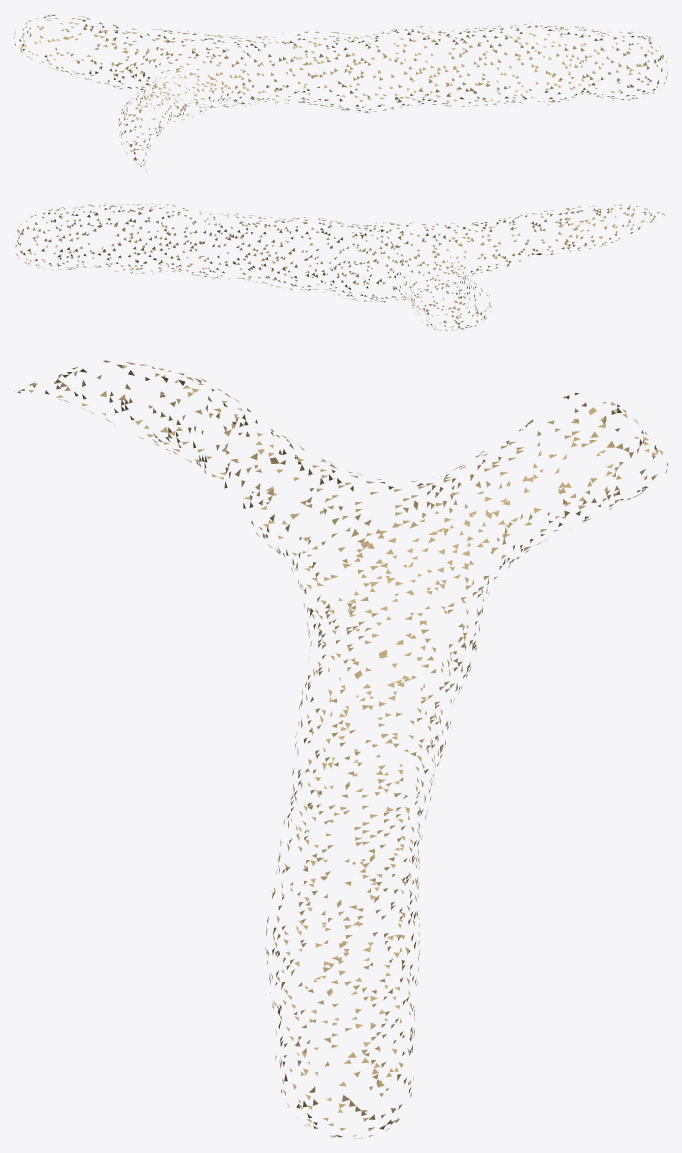
The model's file is morph_007.glb.
3 views of the same model, one above another, from view 1: azimuth 30°, elevation 25°; view 2: azimuth 150°, elevation 25°; view 3: azimuth 270°, elevation 25° (orthographic). The views are drawn at different scales.
Bounding box in the file's own units: 117 × 29.13 × 60.56.
